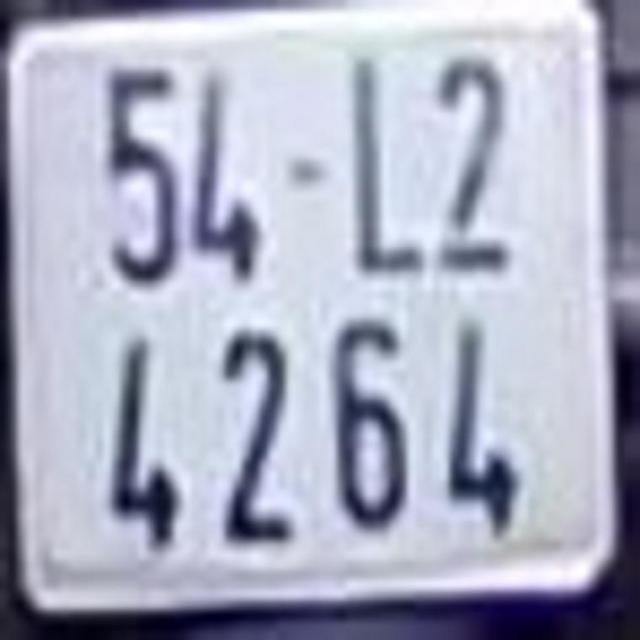2: (436, 49, 529, 281), (214, 329, 304, 545)
4: (184, 60, 266, 284), (103, 334, 182, 548), (451, 313, 528, 529)
5: (100, 60, 176, 282)
6: (328, 319, 411, 528)
L: (342, 50, 428, 279)
